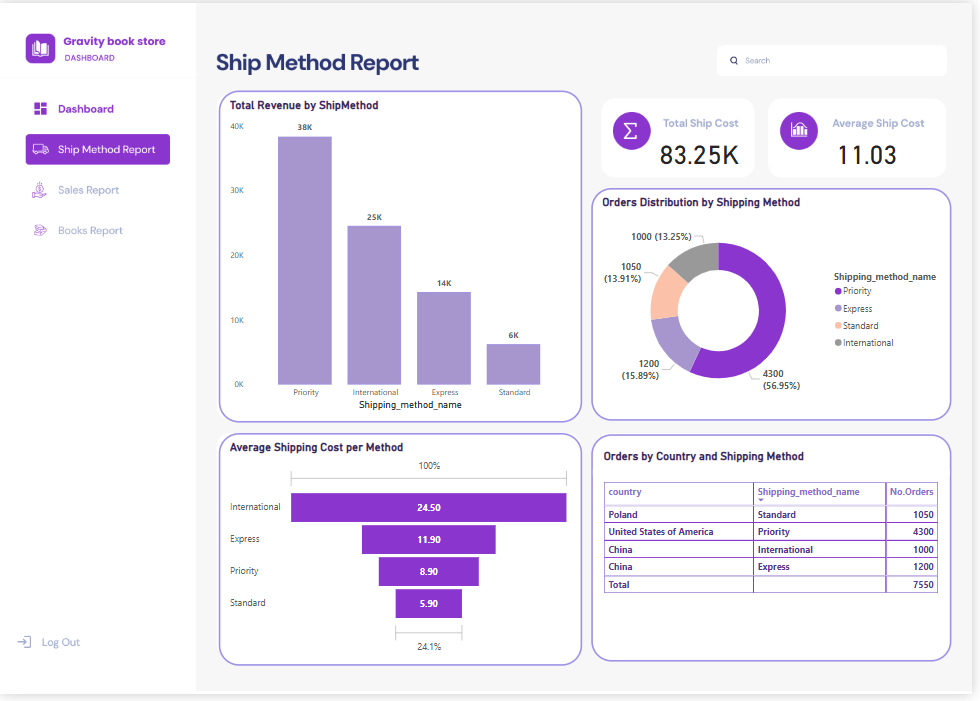

The page's visual inventory and layout, read from the dashboard file:
{"tool":"powerbi","page":{"name":"Ship Method Report","canvas":[1440,1024],"ordinal":1},"visuals":[{"type":"columnChart","title":"Total Revenue by ShipMethod","fields":{"Category":["DimShipping.Shipping_method_name"],"Y":["Factsales.TotalShipCost"]},"box":[323.3,130,538.3,491.7],"z":0},{"type":"donutChart","title":"Orders Distribution by Shipping Method","fields":{"Category":["DimShipping.Shipping_method_name"],"Y":["Factsales.No.Orders"]},"box":[876.7,273.3,533.3,345],"z":1000},{"type":"funnel","title":"Average Shipping Cost per Method","fields":{"Category":["DimShipping.Shipping_method_name"],"Y":["Factsales.AverageShipCost"]},"box":[323.3,636.7,538.3,345],"z":2000},{"type":"tableEx","title":"Orders by Country and Shipping Method","fields":{"Values":["DimShipping.country","DimShipping.Shipping_method_name","Factsales.No.Orders"]},"box":[876.7,638.3,533.3,336.7],"z":3000},{"type":"card","fields":{"Values":["Factsales.TotalShipCost"]},"box":[966.7,188.3,138.3,63.3],"z":4000},{"type":"card","fields":{"Values":["Factsales.AverageShipCost"]},"box":[1233.3,188.3,101.7,63.3],"z":5000},{"type":"actionButton","box":[35,255,218.3,46.7],"z":6000},{"type":"actionButton","box":[34,316,218,46],"z":7000},{"type":"actionButton","box":[33.3,133.3,219.6,47.1],"z":8000}]}

Visuals, with their boxes on the page's 1440x1024 design canvas (x1, y1, x2, y2). These are canvas units, not pixel positions in the 980x701 screenshot, which may show the page scaled, cropped or inside an application window:
"Total Revenue by ShipMethod" columnChart: bbox=[323, 130, 862, 622]
"Orders Distribution by Shipping Method" donutChart: bbox=[877, 273, 1410, 618]
"Average Shipping Cost per Method" funnel: bbox=[323, 637, 862, 982]
"Orders by Country and Shipping Method" tableEx: bbox=[877, 638, 1410, 975]
card - Factsales.TotalShipCost: bbox=[967, 188, 1105, 252]
card - Factsales.AverageShipCost: bbox=[1233, 188, 1335, 252]
actionButton: bbox=[35, 255, 253, 302]
actionButton: bbox=[34, 316, 252, 362]
actionButton: bbox=[33, 133, 253, 180]
